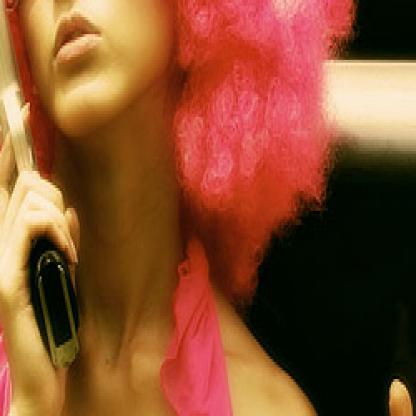gun: (0, 0, 98, 385)
